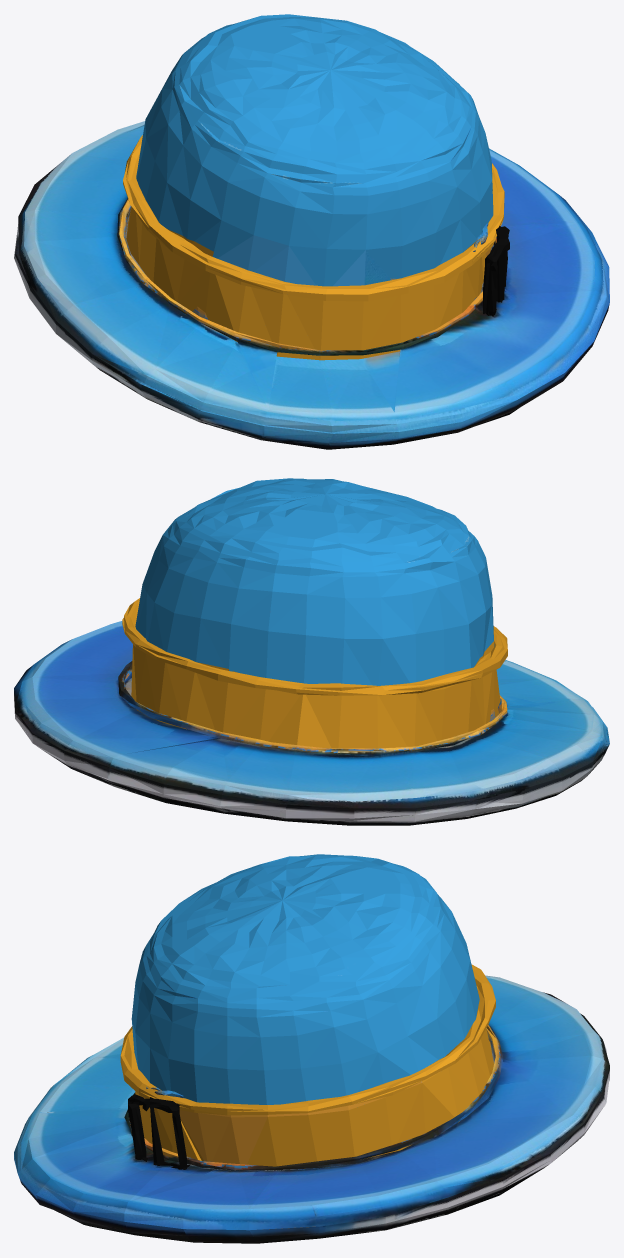
Rendered from chapeus_02.glb.
The picture shows the model from 3 angles, top to bottom: view 1: azimuth 30°, elevation 25°; view 2: azimuth 150°, elevation 25°; view 3: azimuth 270°, elevation 25°; orthographic projection.
Parts seen in each view (by area): view 1: tripo_part_1_item_01, tripo_part_2_item_01, tripo_part_4_item_01, tripo_part_16_item_01; view 2: tripo_part_1_item_01, tripo_part_2_item_01, tripo_part_4_item_01; view 3: tripo_part_1_item_01, tripo_part_2_item_01, tripo_part_4_item_01, tripo_part_16_item_01, tripo_part_19_item_01.
Part boxes in pixels (bbox=[...]): tripo_part_1_item_01: bbox=[14, 121, 609, 449]; tripo_part_2_item_01: bbox=[136, 14, 493, 302]; tripo_part_4_item_01: bbox=[123, 135, 504, 359]; tripo_part_16_item_01: bbox=[483, 226, 509, 316]; tripo_part_1_item_01: bbox=[14, 621, 609, 825]; tripo_part_2_item_01: bbox=[135, 478, 494, 732]; tripo_part_4_item_01: bbox=[122, 598, 507, 695]; tripo_part_1_item_01: bbox=[14, 975, 609, 1243]; tripo_part_2_item_01: bbox=[131, 854, 479, 1164]; tripo_part_4_item_01: bbox=[120, 964, 495, 1115]; tripo_part_16_item_01: bbox=[128, 1094, 186, 1163]; tripo_part_19_item_01: bbox=[139, 1108, 189, 1169].
Size of the model in its own units: 0.3111 by 0.1624 by 0.317.
Materials: 11 (7 with a texture image).
